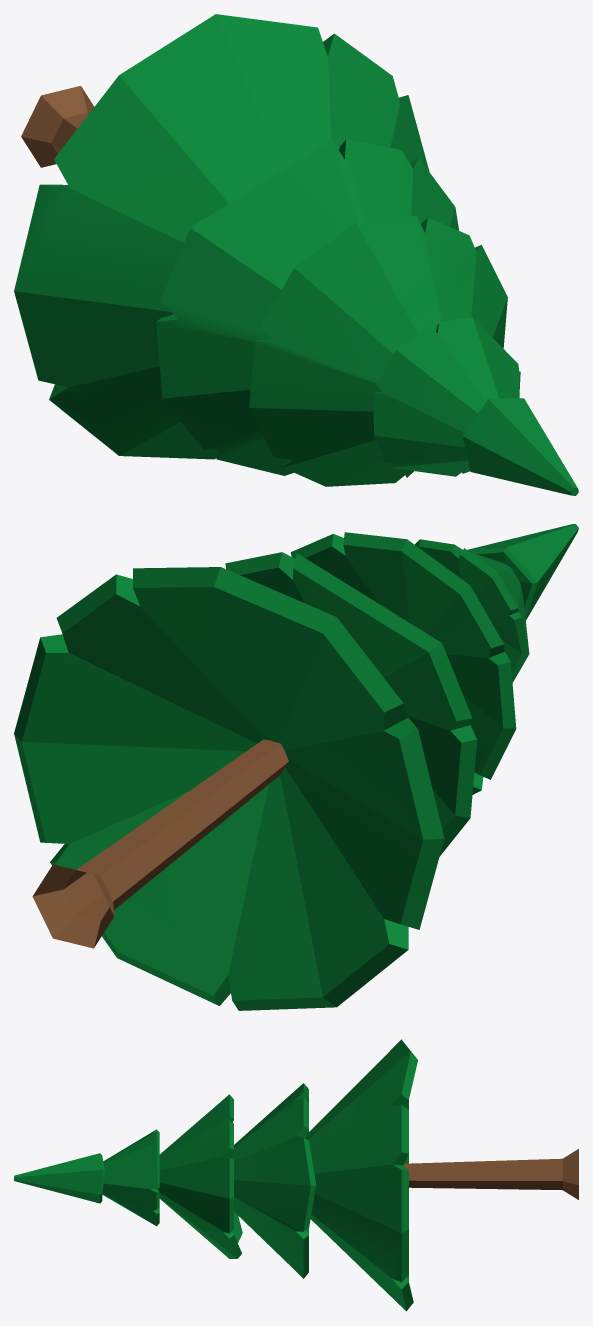
File: SM_Tree_01.FBX
3 views of the same model, one above another, from view 1: azimuth 30°, elevation 25°; view 2: azimuth 150°, elevation 25°; view 3: azimuth 270°, elevation 25° (orthographic). The views are drawn at different scales.
Parts seen in each view (by area): view 1: SM_Tree_01; view 2: SM_Tree_01; view 3: SM_Tree_01.
Boxes of the visible parts, box(x1,y1,x2,y2) form: SM_Tree_01: box(14, 14, 578, 495); SM_Tree_01: box(14, 524, 578, 1010); SM_Tree_01: box(14, 1039, 578, 1311).
Size of the model in its own units: 2.76 by 2.74 by 5.7.
1 material, 1 textured.
